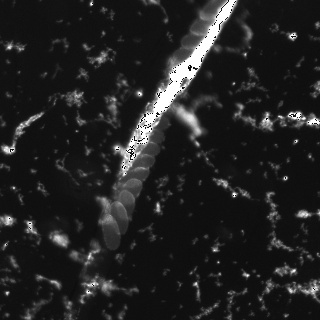embryo: (101, 214, 120, 249), (163, 57, 185, 85), (114, 190, 134, 220), (111, 201, 128, 236), (120, 178, 142, 205), (191, 13, 218, 35), (120, 167, 148, 187), (173, 44, 198, 65), (128, 154, 154, 174), (183, 31, 210, 48), (158, 78, 189, 92), (140, 116, 170, 130), (136, 129, 165, 143), (138, 142, 160, 156)
